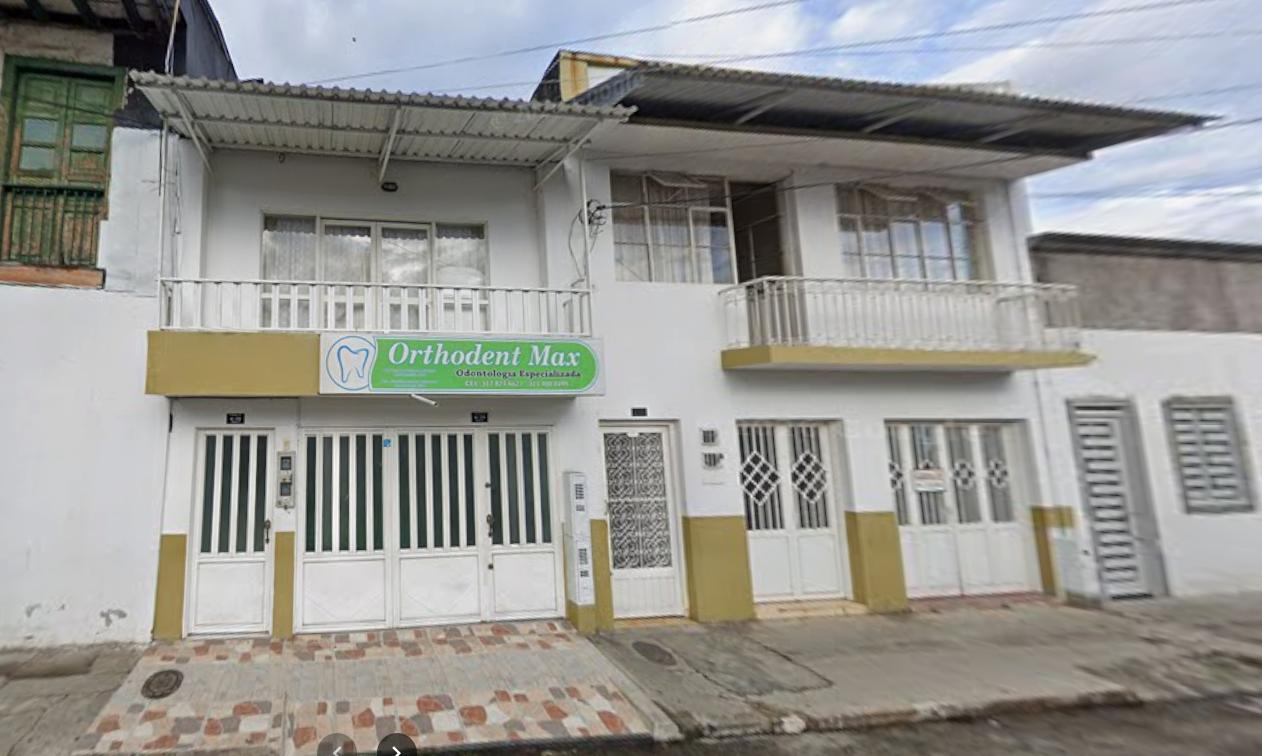casa: (138, 50, 1203, 636), (1029, 233, 1261, 600)
